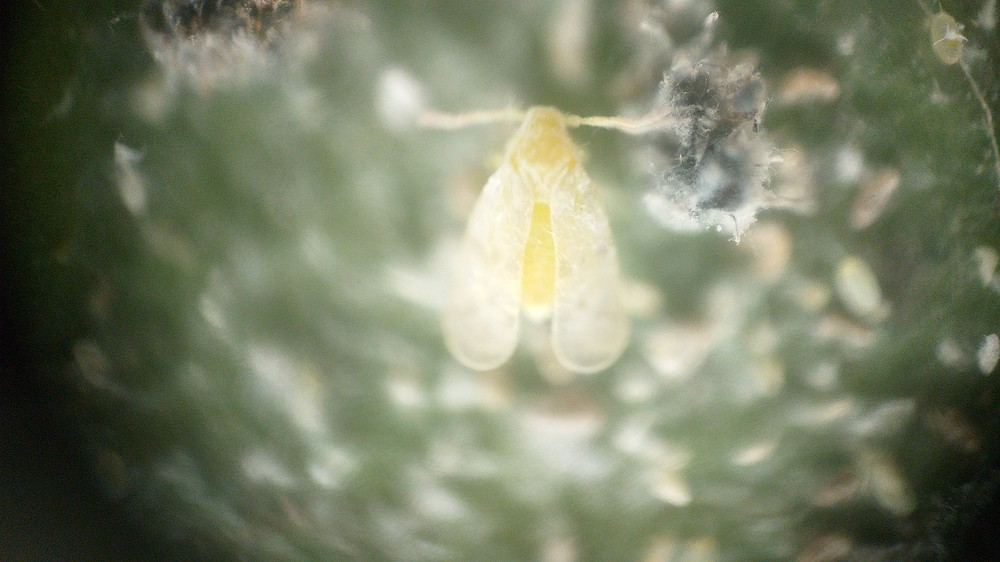Mosca Blanca: (379, 70, 715, 408)
